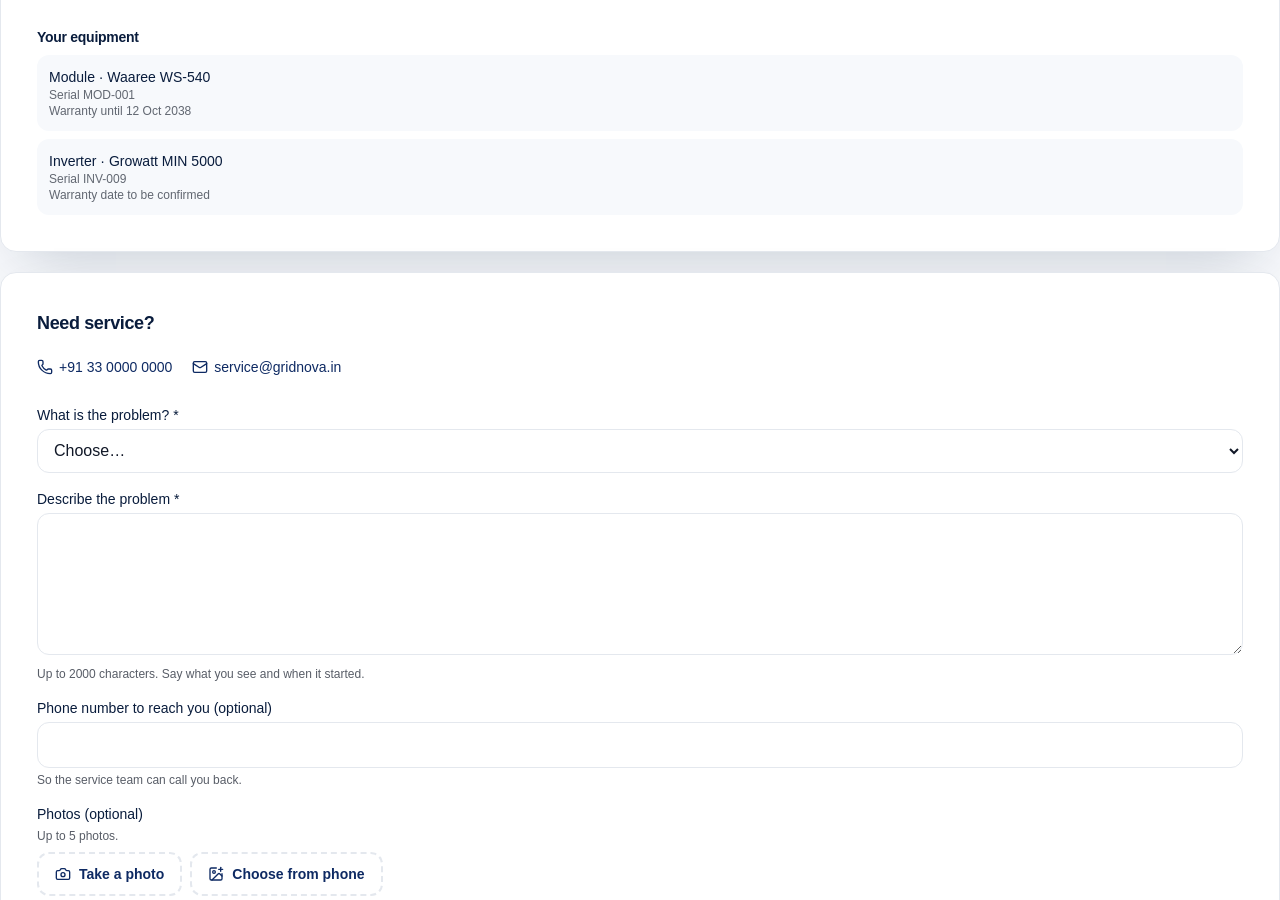
Test: public handover page (W9) › a 429 from the server is explained in words
(page scrolled)
Select "Something else" in the dropdown labelled "What is the problem? *" at (640, 451), box [37,429,1243,473]
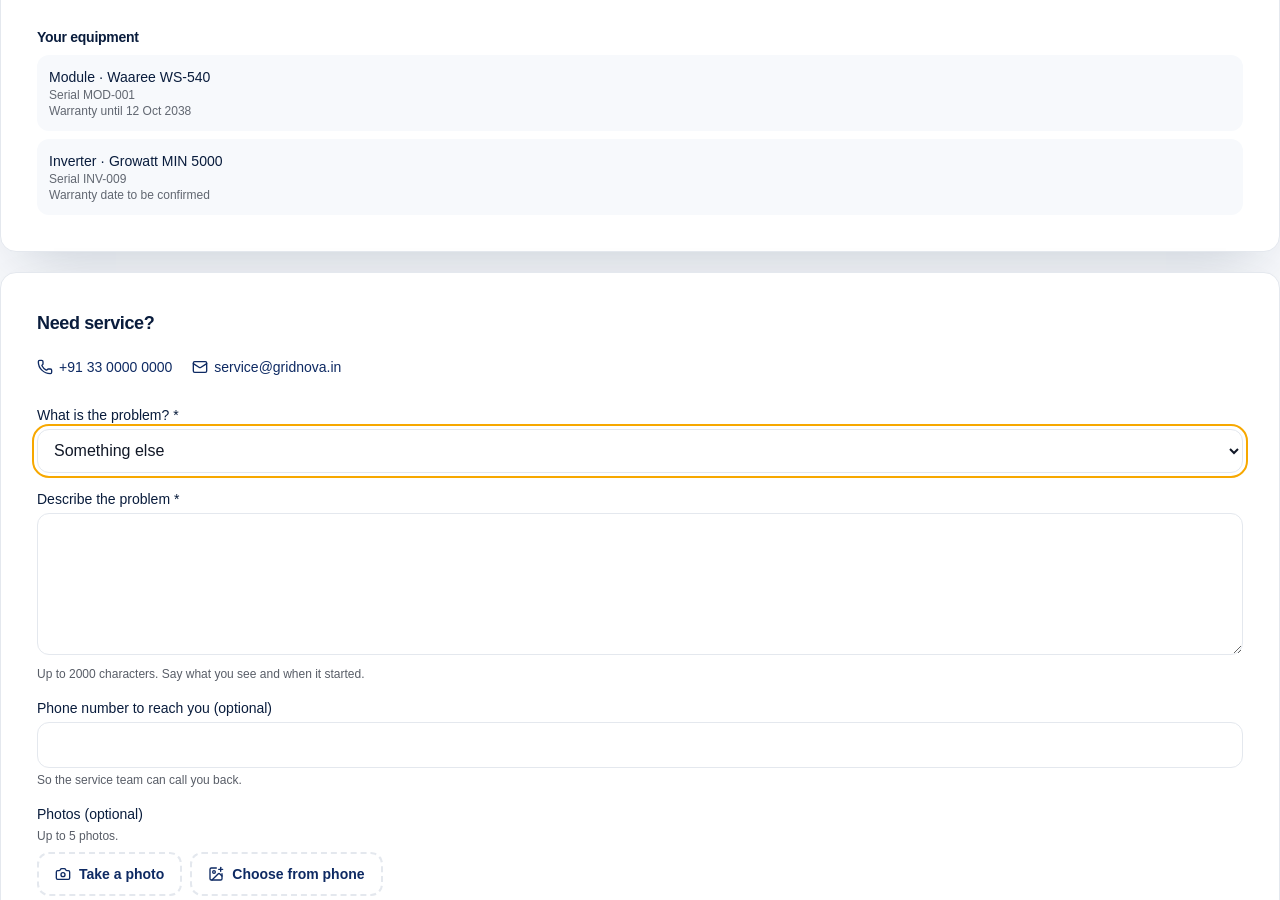
Type "x" into the text box labelled "Describe the problem *".
click(640, 584); type("x")  # box [37,513,1243,655]
(page scrolled)
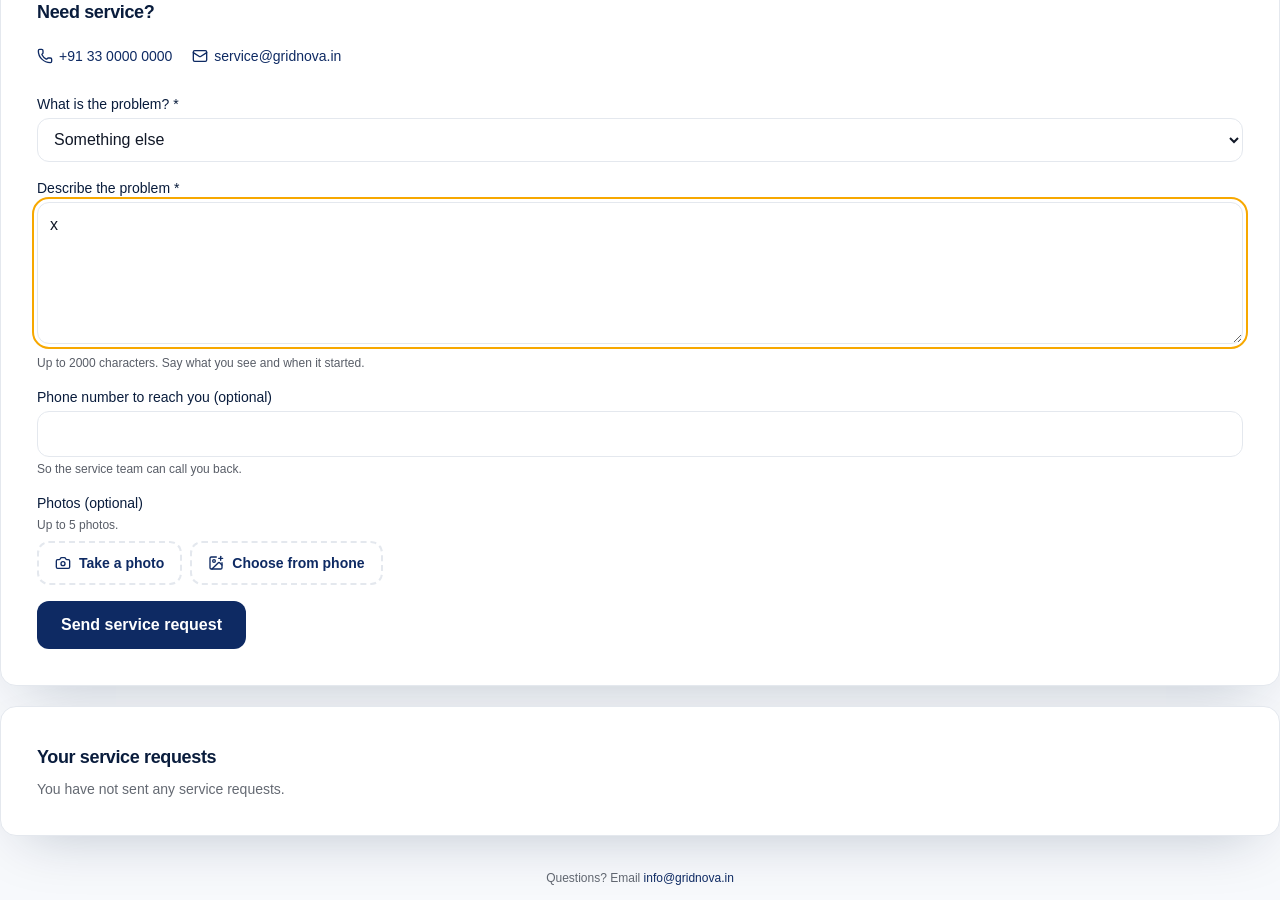
Click the button "Send service request".
click(142, 625)  # box [37,601,246,649]
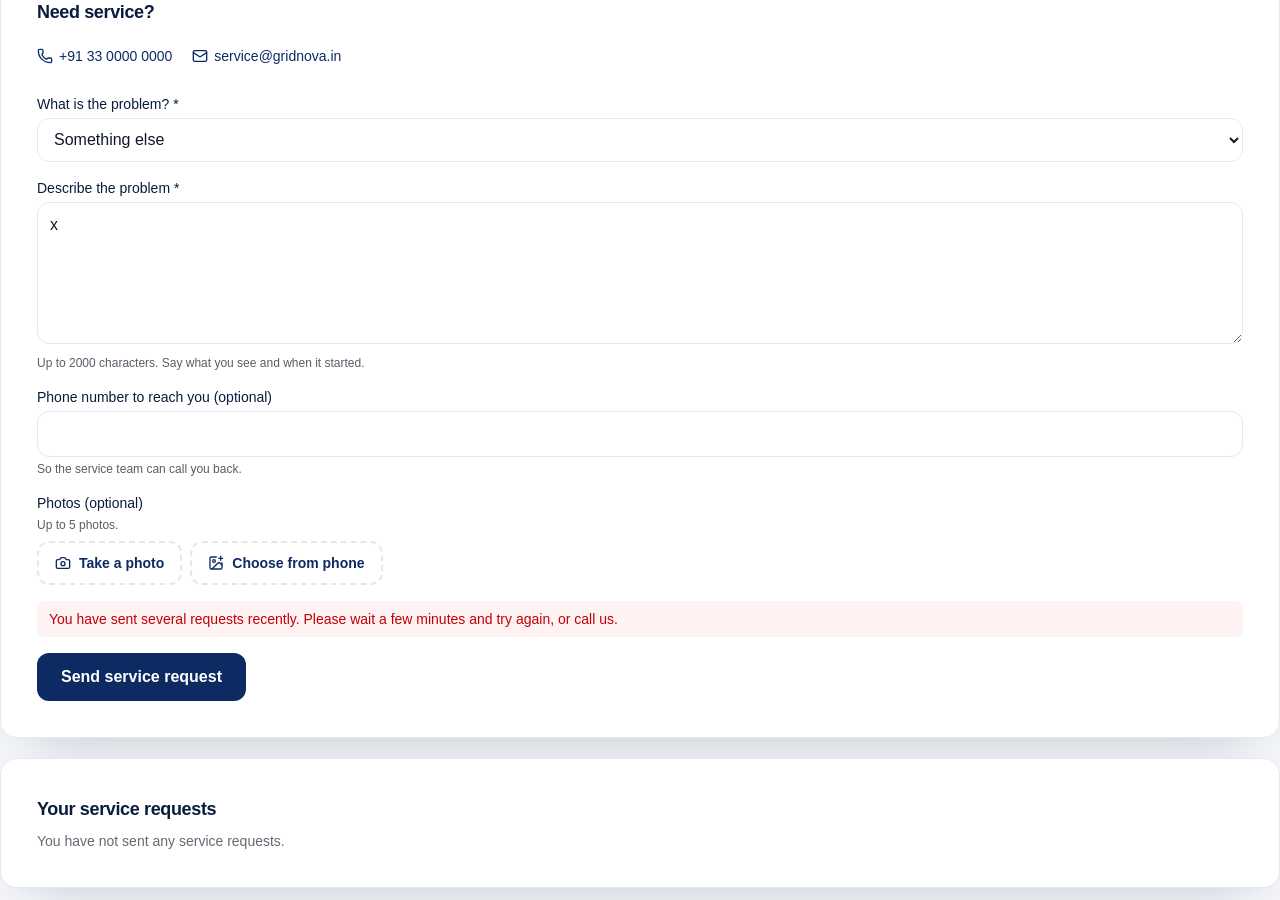
Check: the text "You have sent several requests recently. Please wait a few minutes and try again, or call us." is shown, box [49,611,618,627]
